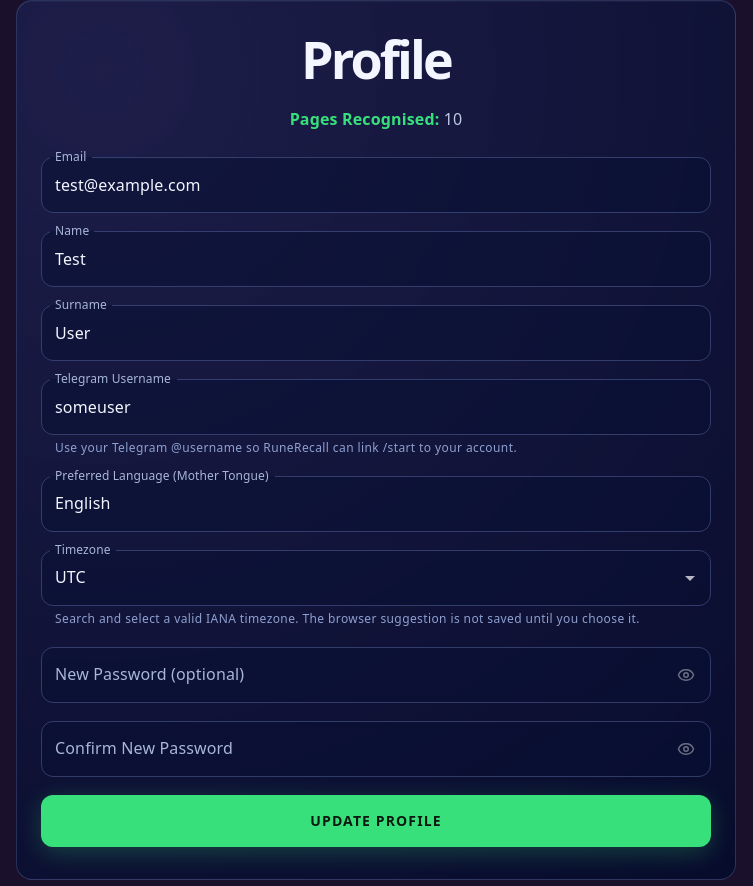
Test case: Profile › handles profile update failure
This screenshot has width=753, height=886.
Replace the text in the field labelled "Name" with "New Name". click: (376, 259)
box: [41,231,711,287]
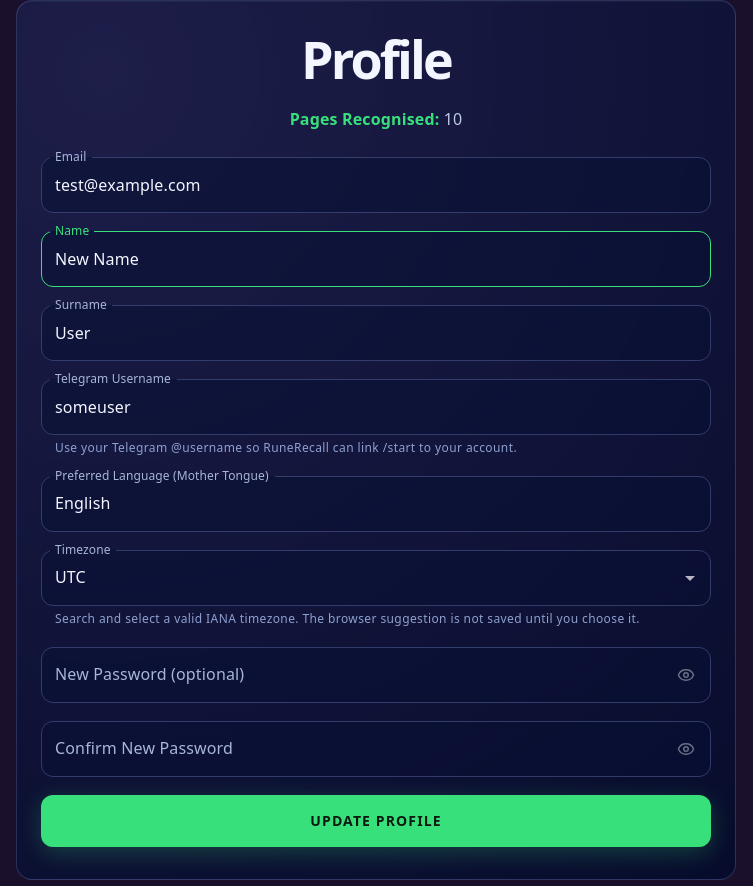
Click the button "Update Profile". click: (376, 821)
box: [41,795,711,847]
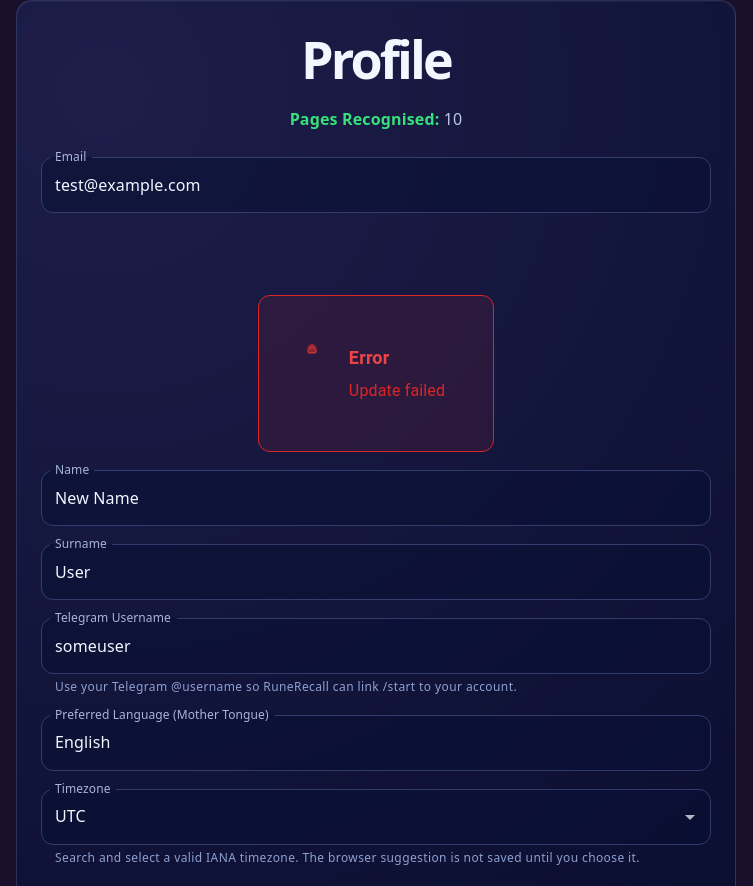
Check: the text "Update failed" is shown, box [349,379,445,403]
